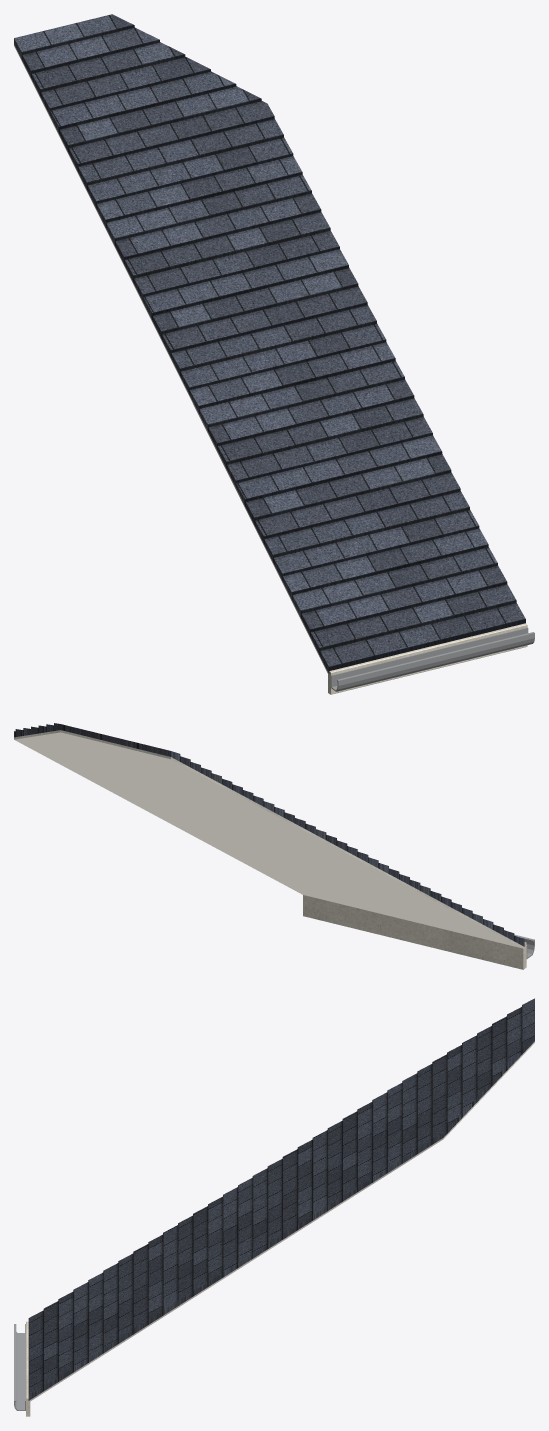
File: roof_main_2.glb
3 views of the same model, one above another, from view 1: azimuth 30°, elevation 25°; view 2: azimuth 150°, elevation 25°; view 3: azimuth 270°, elevation 25° (orthographic). The views are drawn at different scales.
Visible parts, largest first — view 1: roof_main_2_shingles, roof_main_2_gutter, roof_main_2_trim, roof_main_2_plaster; view 2: roof_main_2_plaster, roof_main_2_trim, roof_main_2_shingles; view 3: roof_main_2_shingles, roof_main_2_plaster, roof_main_2_gutter.
Part boxes in pixels (x1,y1,x2,y2): roof_main_2_shingles: [14, 14, 525, 673]; roof_main_2_gutter: [331, 627, 534, 691]; roof_main_2_trim: [328, 623, 527, 694]; roof_main_2_plaster: [14, 44, 329, 675]; roof_main_2_plaster: [14, 730, 524, 948]; roof_main_2_trim: [303, 895, 526, 969]; roof_main_2_shingles: [14, 723, 524, 946]; roof_main_2_shingles: [28, 998, 534, 1400]; roof_main_2_plaster: [28, 1041, 534, 1402]; roof_main_2_gutter: [14, 1324, 25, 1410].
Size of the model in its own units: 2 by 4.13 by 5.71.
Materials: 4 (3 with a texture image).
